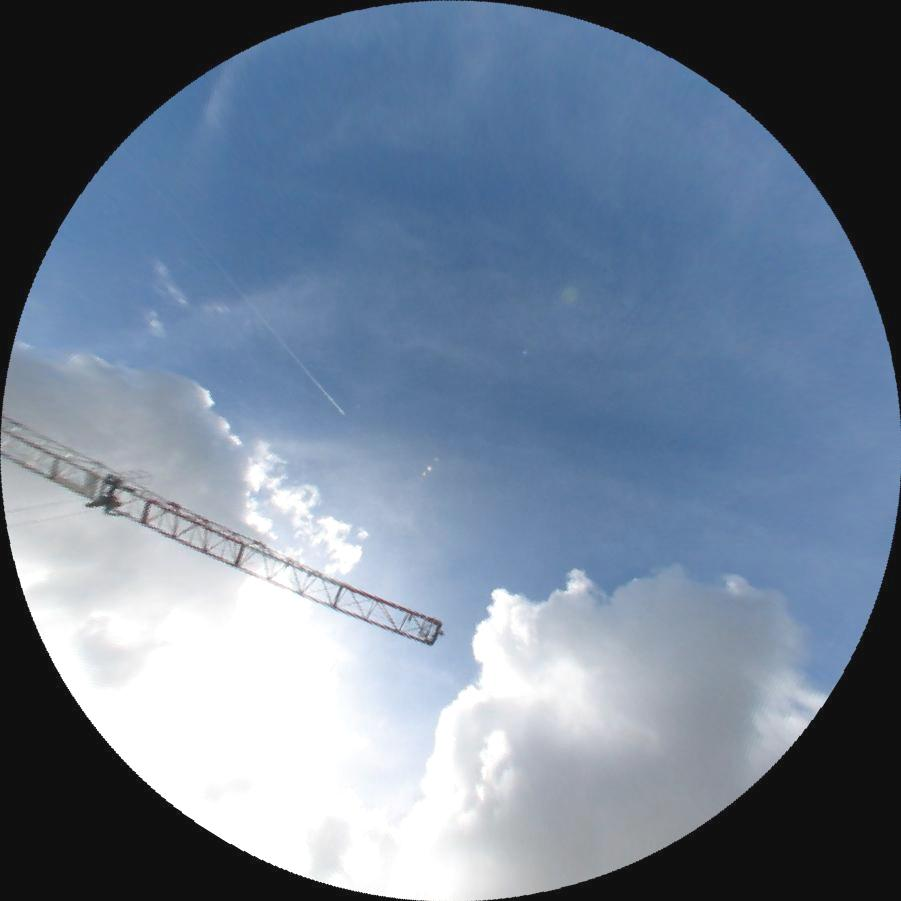contrail young: (114, 147, 348, 419)
sun: (126, 562, 361, 808)
